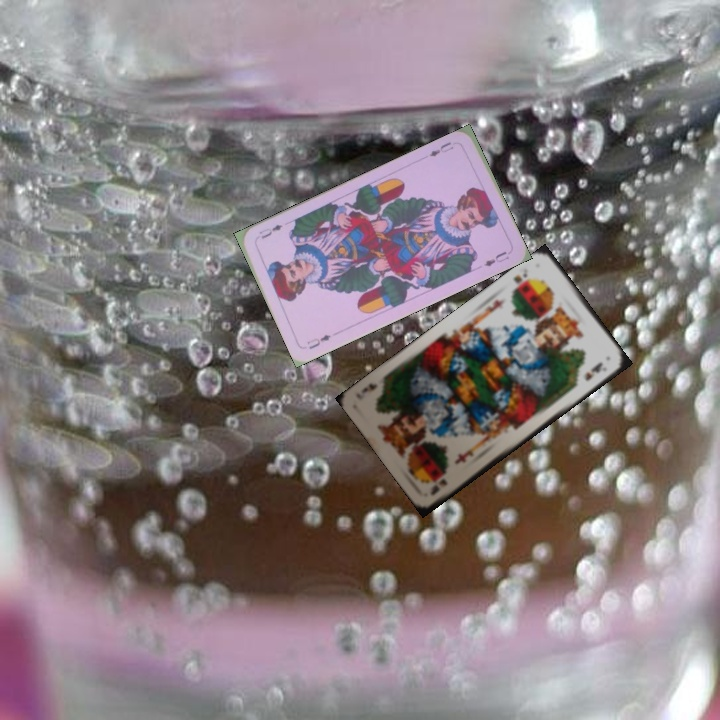EU: (303, 330, 333, 352), (425, 138, 456, 159)
SK: (509, 264, 530, 294), (426, 474, 449, 498)
